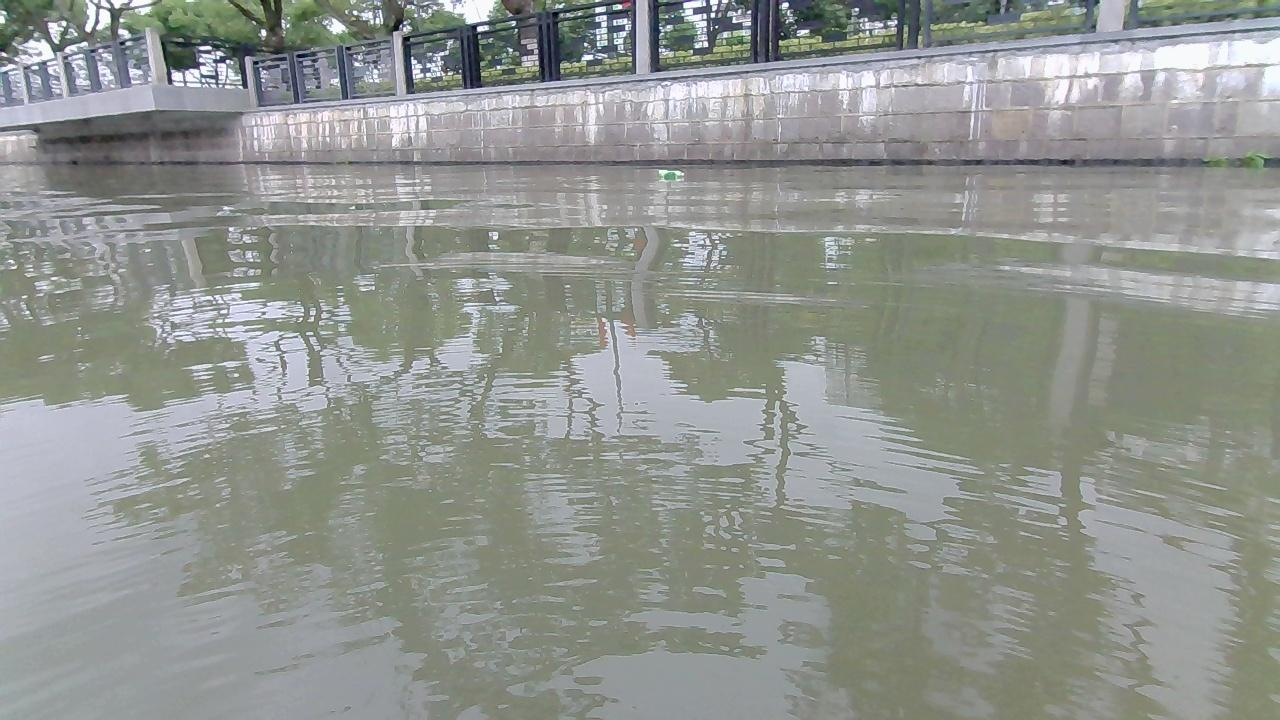bottle: (655, 165, 686, 184)
